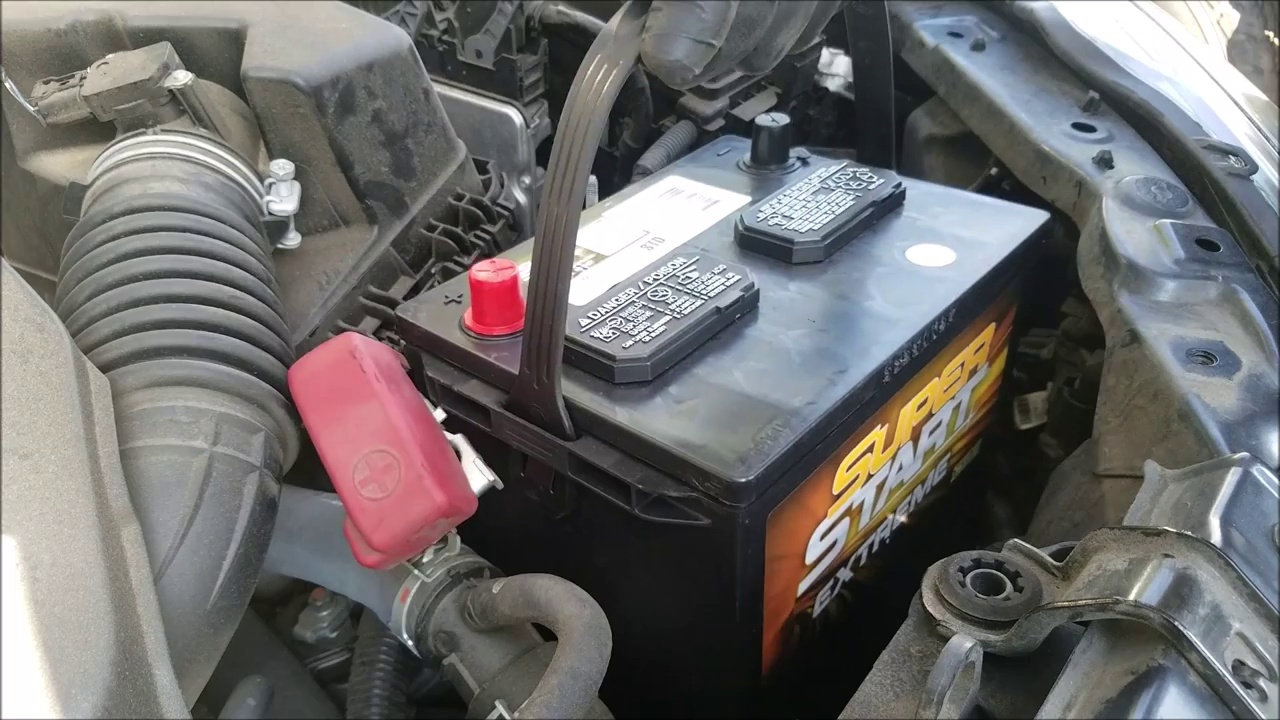battery: (385, 128, 1038, 485)
pos_disconnected: (306, 235, 539, 549)
